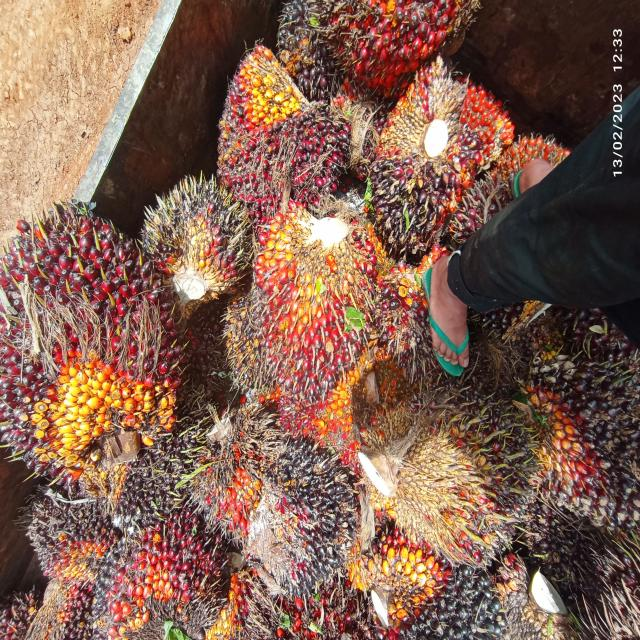fraksi 00: (516, 310, 640, 537), (353, 60, 486, 268), (250, 410, 358, 609), (348, 515, 502, 640), (6, 458, 124, 596), (110, 419, 214, 536)
fraksi 1: (0, 153, 207, 514), (203, 21, 349, 255), (110, 494, 230, 640)
fraksi 3: (245, 170, 385, 427)
fraksi 4: (185, 390, 268, 546), (453, 58, 516, 172)
